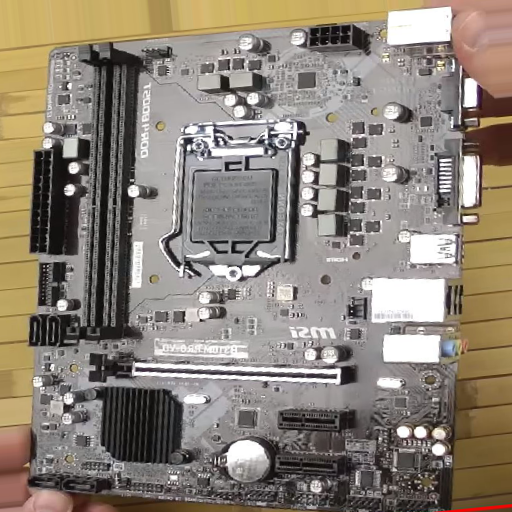CPU: (170, 119, 301, 277)
GPU: (87, 353, 344, 384)
MOTHERBOARD: (21, 12, 475, 512)
RAM: (67, 44, 139, 342)
